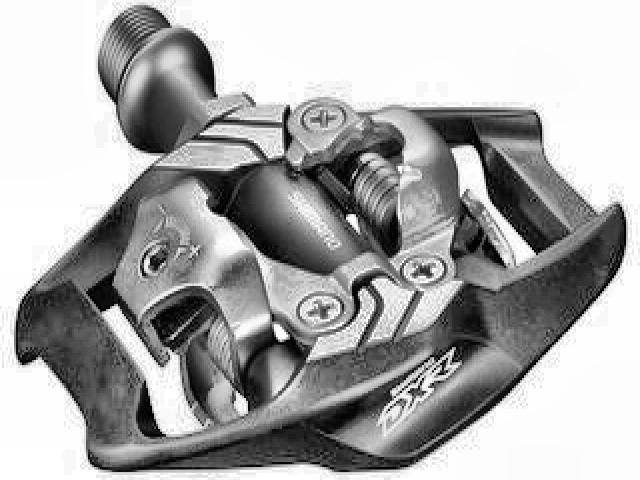pedal: (10, 6, 631, 475)
